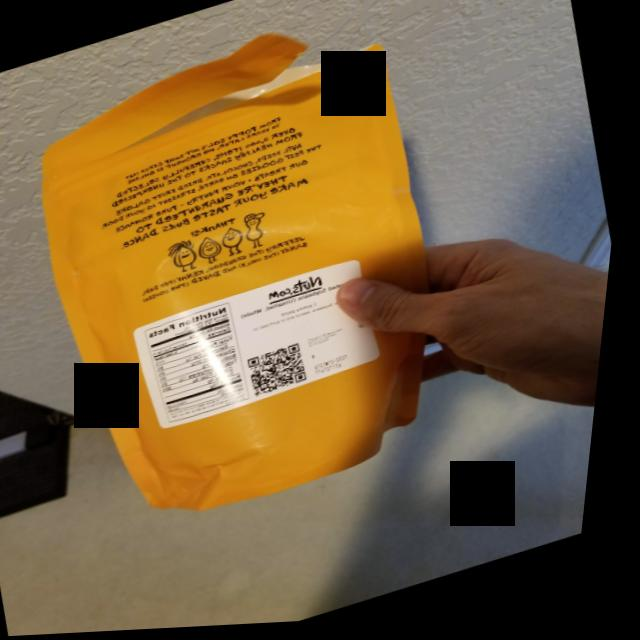QR_CODE: (238, 332, 331, 414)
